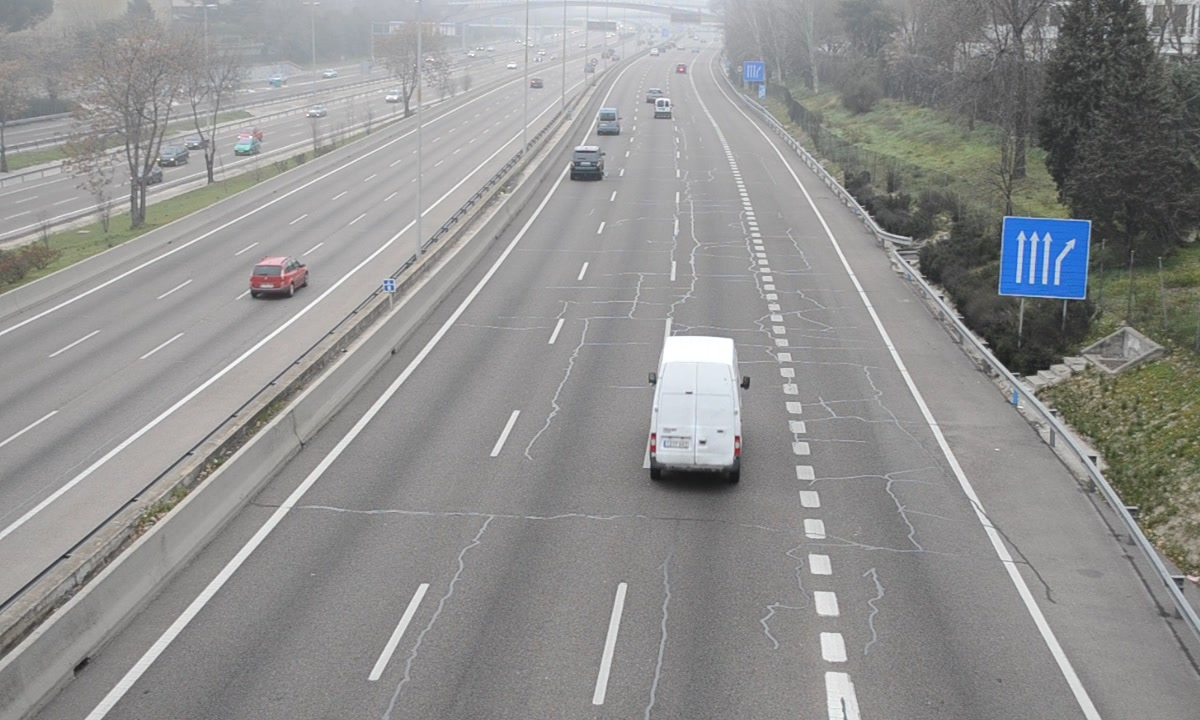car: (570, 146, 605, 181)
van: (647, 336, 745, 481), (597, 106, 619, 134)
